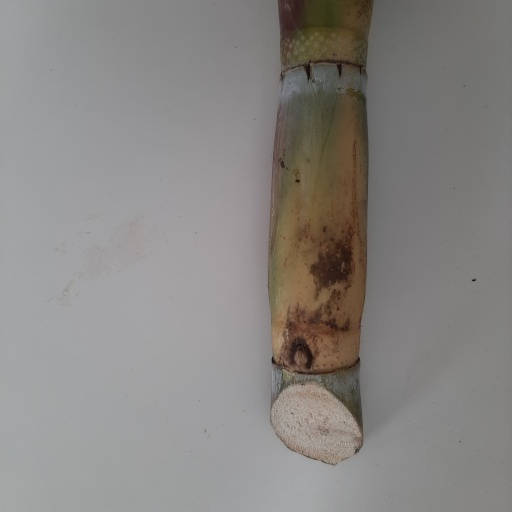Bud: (292, 343, 313, 370)
